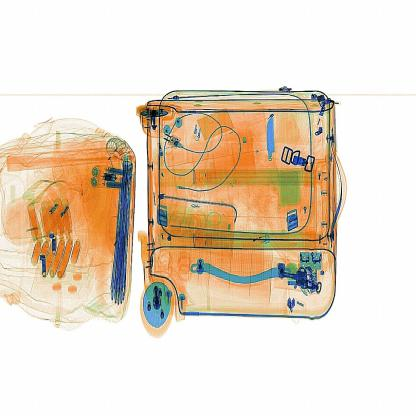wrench: (264, 113, 279, 185)
